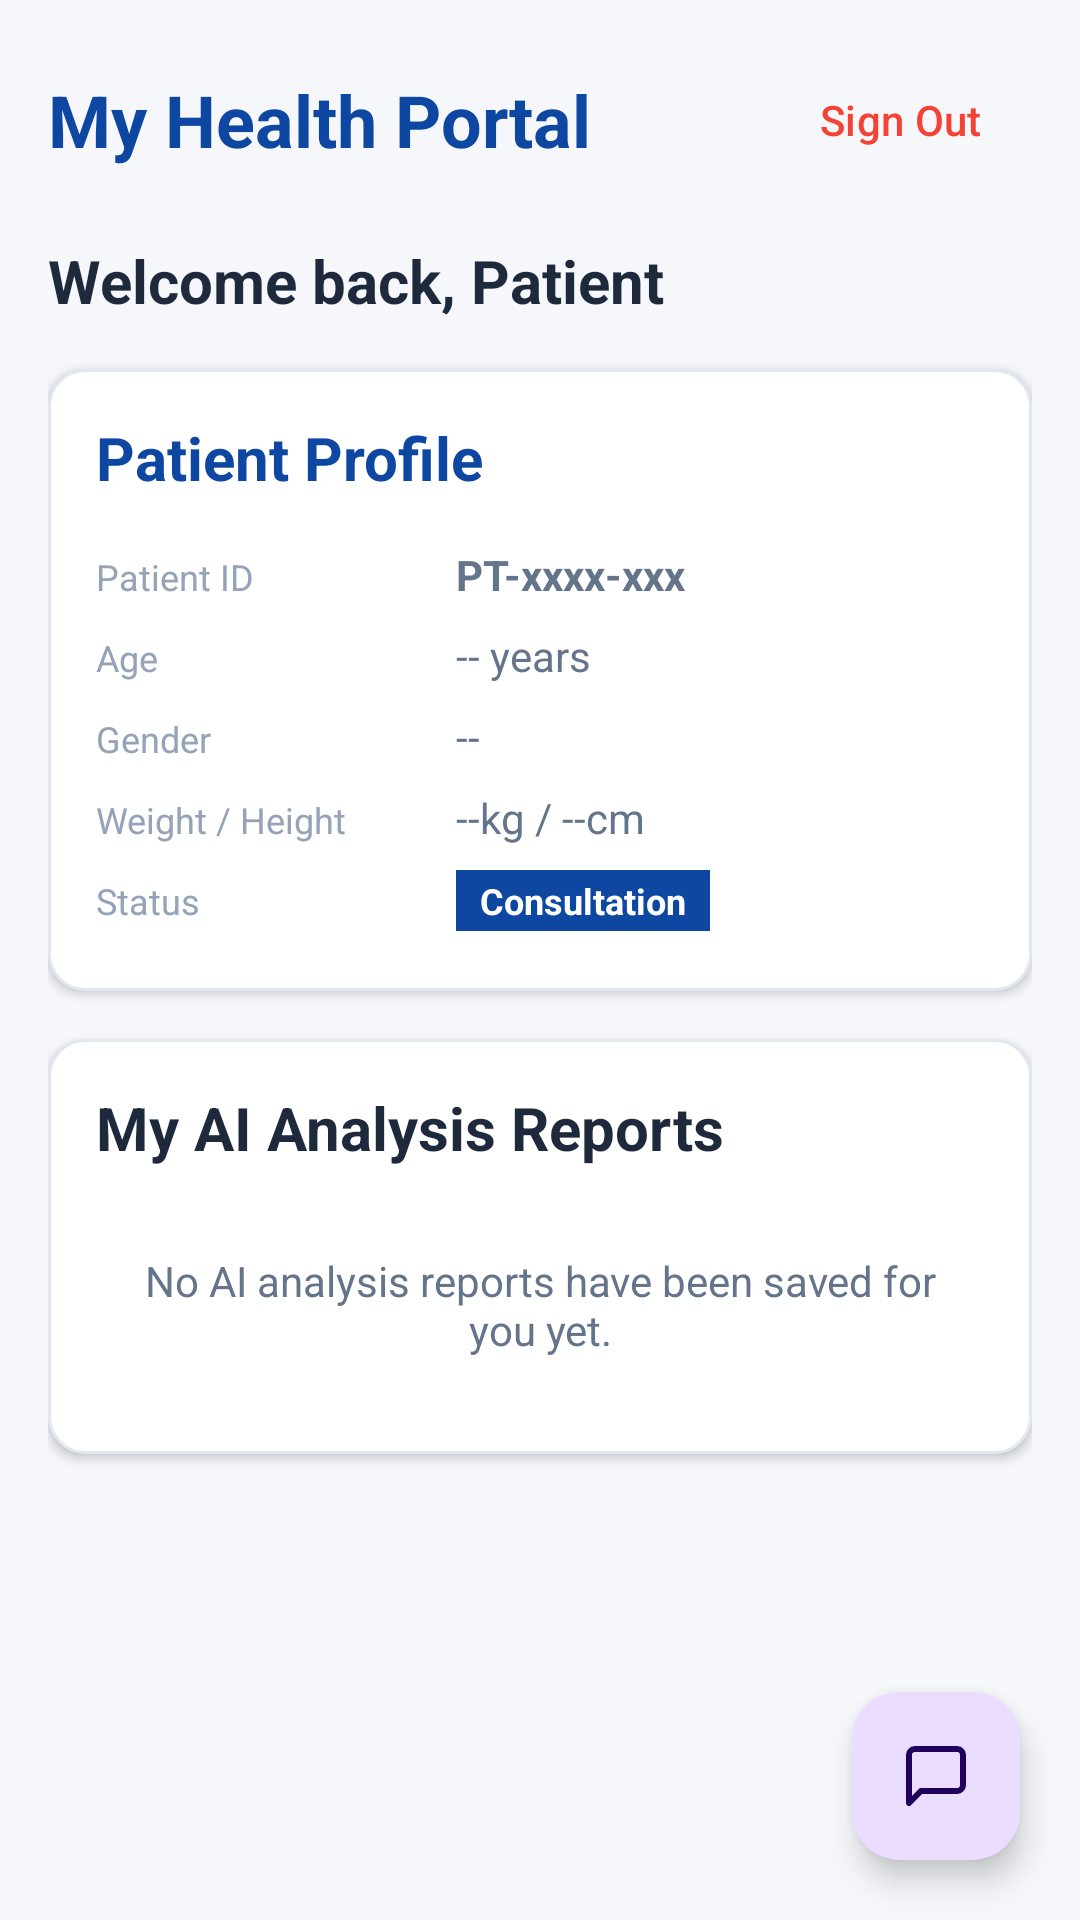

Locate icon controls on the screen. Image size 1080×1920, boxes as BBox(x1, y1, x2, y2).
AI Assistant Chatbot: BBox(852, 1692, 1020, 1860)
